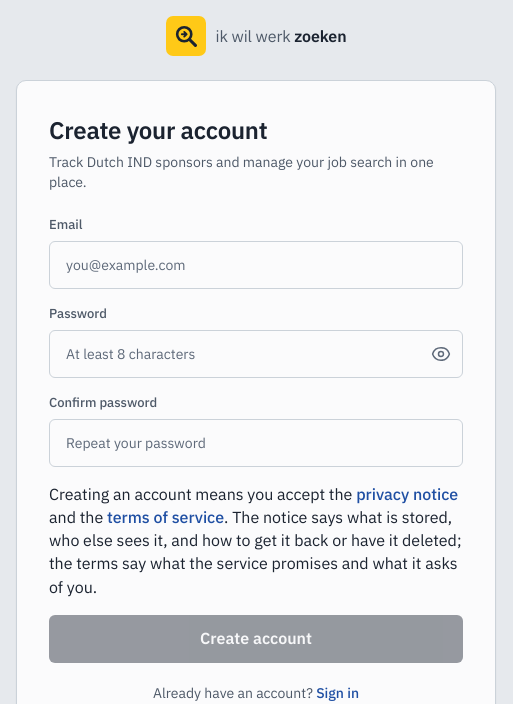
Test case: RegisterView › submit button is enabled when all required fields are filled
The image size is (513, 704).
Type "jan@example.com" into the field with id "reg-email". click: [256, 265]
box: [49, 241, 463, 289]
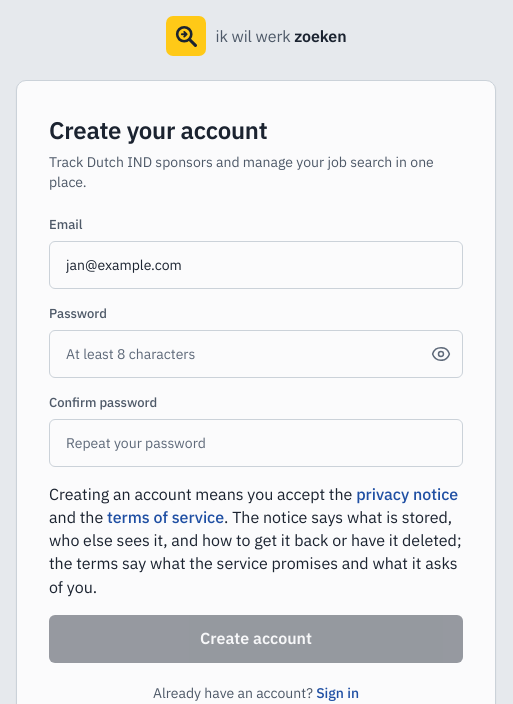
Type "password123" into the password field with id "reg-password". click: [256, 354]
box: [49, 330, 463, 378]
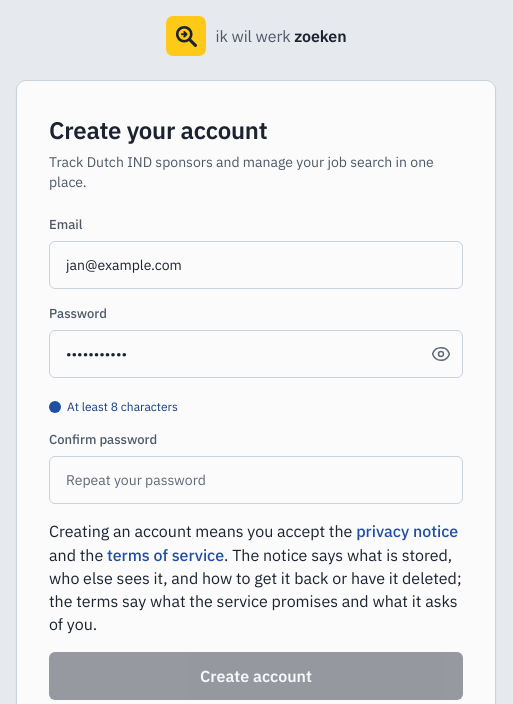
Type "password123" into the password field with id "reg-confirm-password". click: [256, 480]
box: [49, 456, 463, 504]
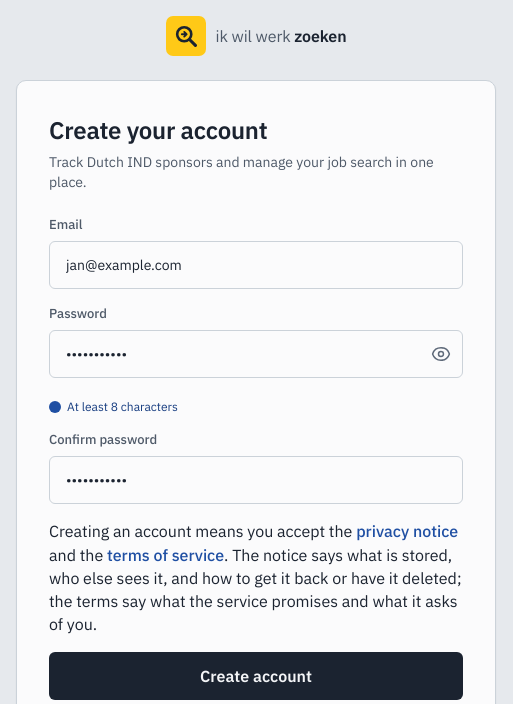
Check: the submit button is enabled, box [49, 652, 463, 700]
